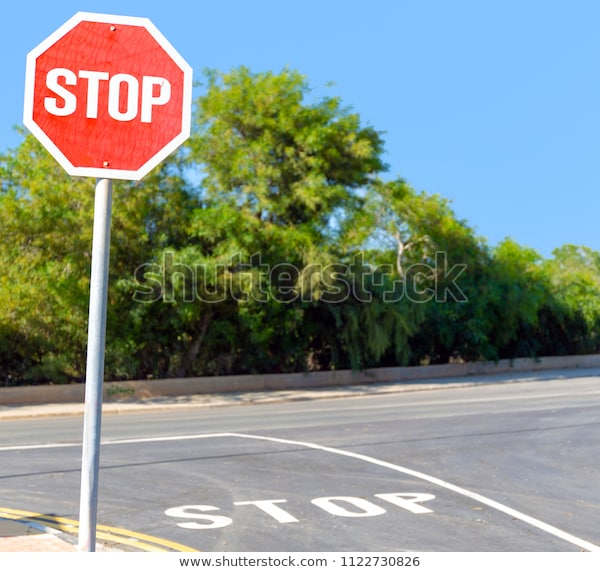stop: (23, 10, 194, 181)
